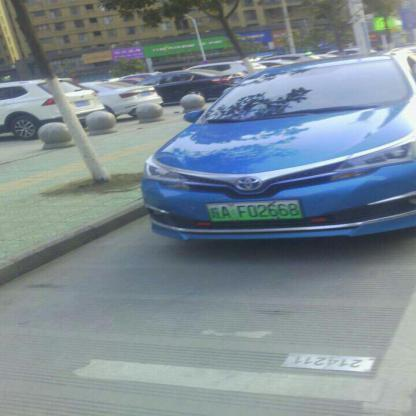lp: (206, 200, 302, 221)
